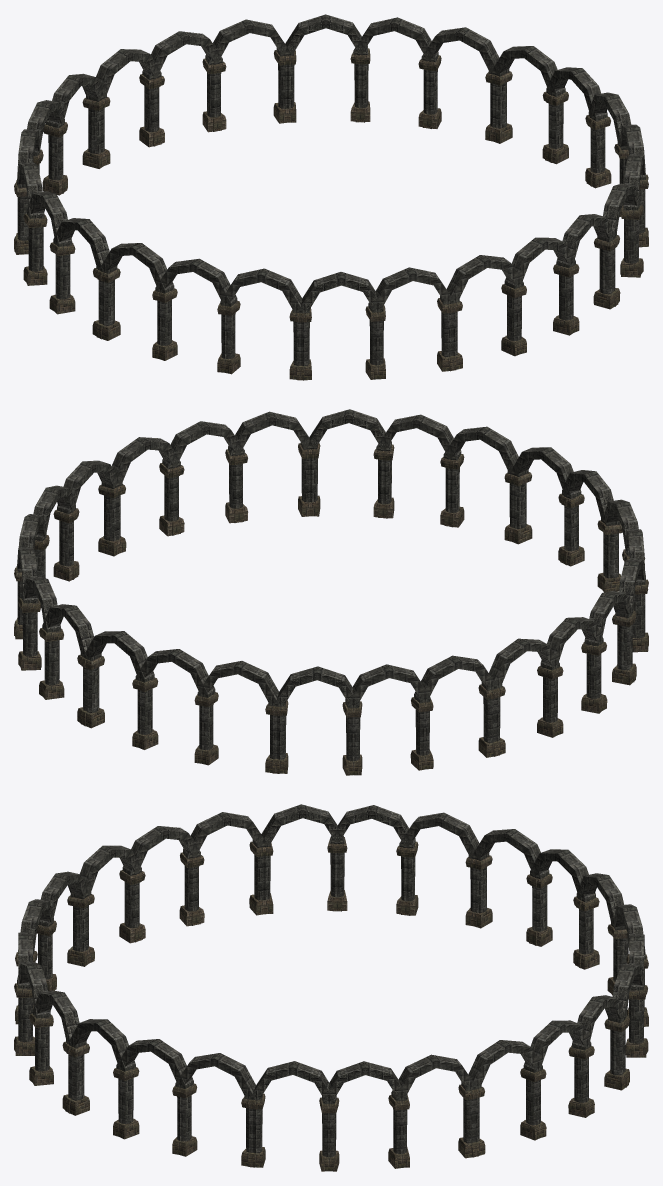
The model's file is Boss.fbx.
3 renders of one model, top to bottom at view 1: azimuth 30°, elevation 25°; view 2: azimuth 150°, elevation 25°; view 3: azimuth 270°, elevation 25°, orthographic.
Visible parts, largest first — view 1: archway1; view 2: archway1; view 3: archway1.
Boxes of the visible parts, x1,y1,x2,y2 form: archway1: (14, 14, 648, 380); archway1: (14, 409, 648, 775); archway1: (14, 804, 648, 1171).
Size of the model in its own units: 3482 by 610 by 3469.
Materials: 1 (1 with a texture image).
